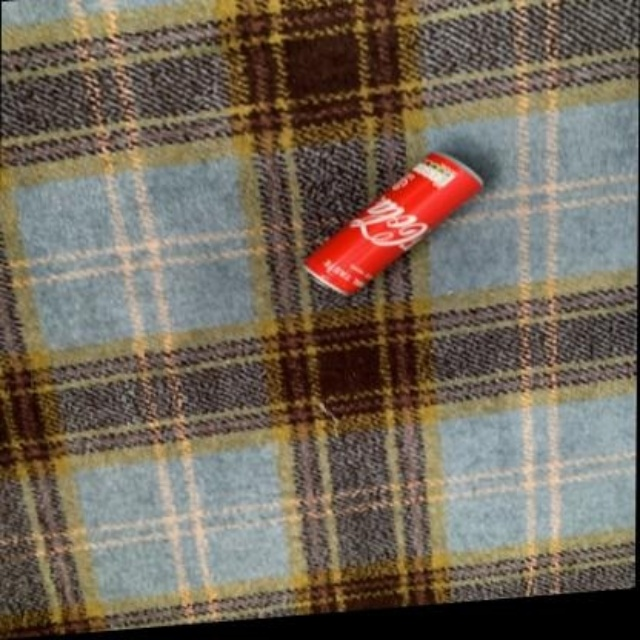trash: (305, 152, 482, 294)
